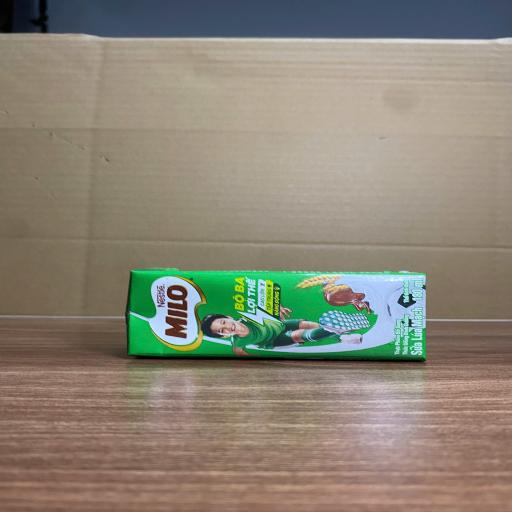milo: (126, 269, 432, 360)
